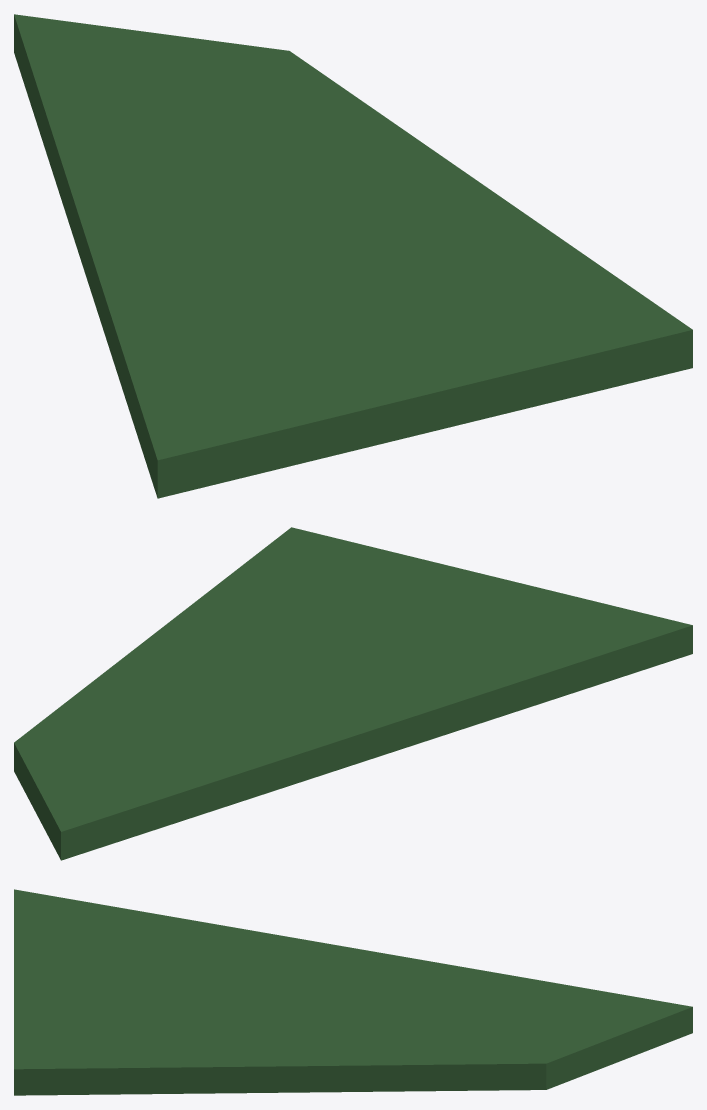
File: x_proval_00_166_1_rmstrd.fbx
The picture shows the model from 3 angles, top to bottom: view 1: azimuth 30°, elevation 25°; view 2: azimuth 150°, elevation 25°; view 3: azimuth 270°, elevation 25°; orthographic projection. The views are drawn at different scales.
Parts seen in each view (by area): view 1: x_proval_00_166_1_rmstrd1; view 2: x_proval_00_166_1_rmstrd1; view 3: x_proval_00_166_1_rmstrd1.
Part boxes in pixels (x1=…): x_proval_00_166_1_rmstrd1: x1=14, y1=14, x2=692, y2=498; x_proval_00_166_1_rmstrd1: x1=14, y1=527, x2=692, y2=860; x_proval_00_166_1_rmstrd1: x1=14, y1=889, x2=692, y2=1095.
Bounding box in the file's own units: 2.93 × 0.2 × 4.67.
